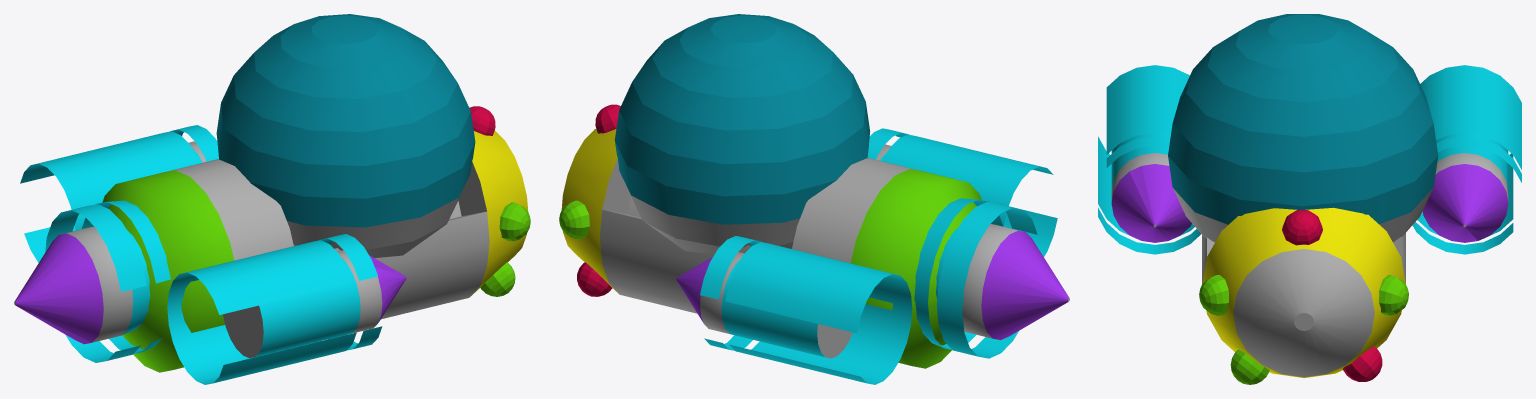
File: torpedo.fbx
3 renders of one model, left to right at view 1: azimuth 30°, elevation 25°; view 2: azimuth 150°, elevation 25°; view 3: azimuth 270°, elevation 25°, orthographic. The views are drawn at different scales.
Parts seen in each view (by area): view 1: polySurface2394; view 2: polySurface2394; view 3: polySurface2394.
Boxes of the visible parts, left/top/right/bottom form: polySurface2394: left=14, top=14, right=530, bottom=384; polySurface2394: left=559, top=14, right=1069, bottom=384; polySurface2394: left=1098, top=14, right=1521, bottom=384.
Size of the model in its own units: 382 by 214 by 271.
